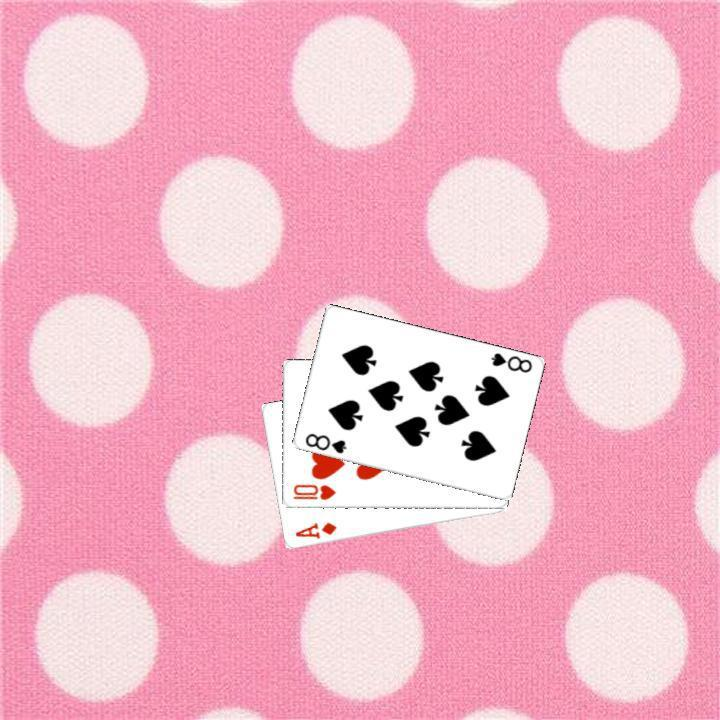10: (289, 481, 337, 502)
8: (300, 429, 348, 456), (486, 348, 534, 375)
A: (291, 518, 338, 541)
